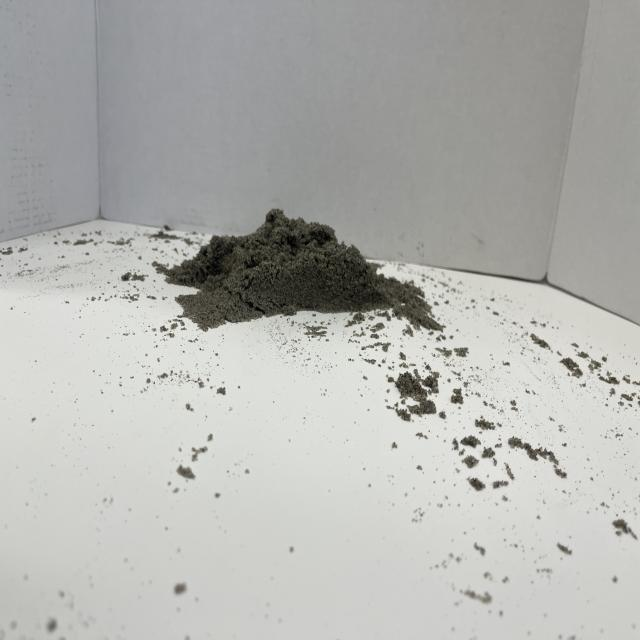sand: (144, 174, 476, 386)
